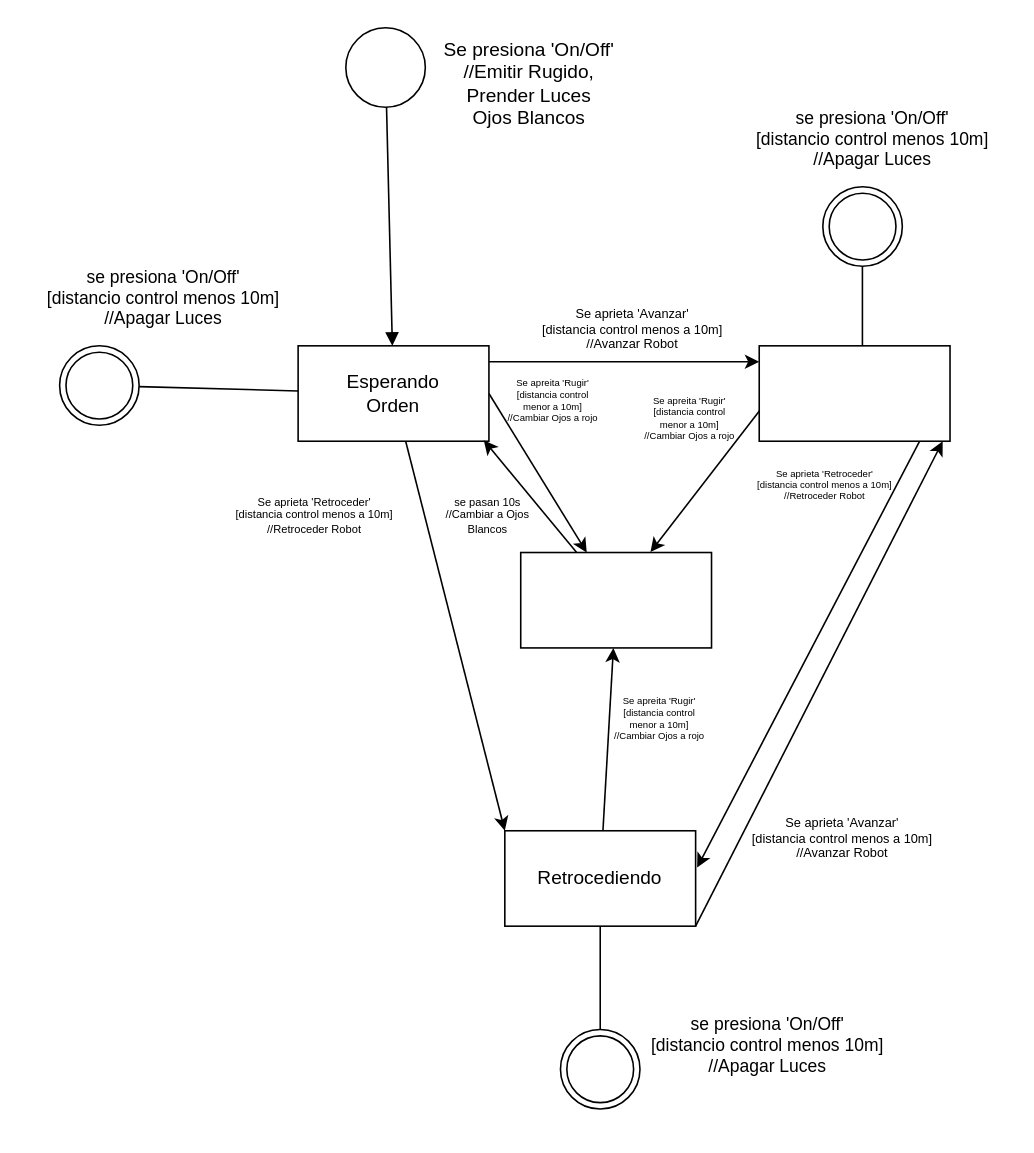
Image size: 1034x1153. Some labels were removed from this diagram. The shapes that lost their labels are listed below. From the top down, each one's centre as x and y in pixels, then its label:
[854,392]: Avanzando
[615,599]: Rugiendo
